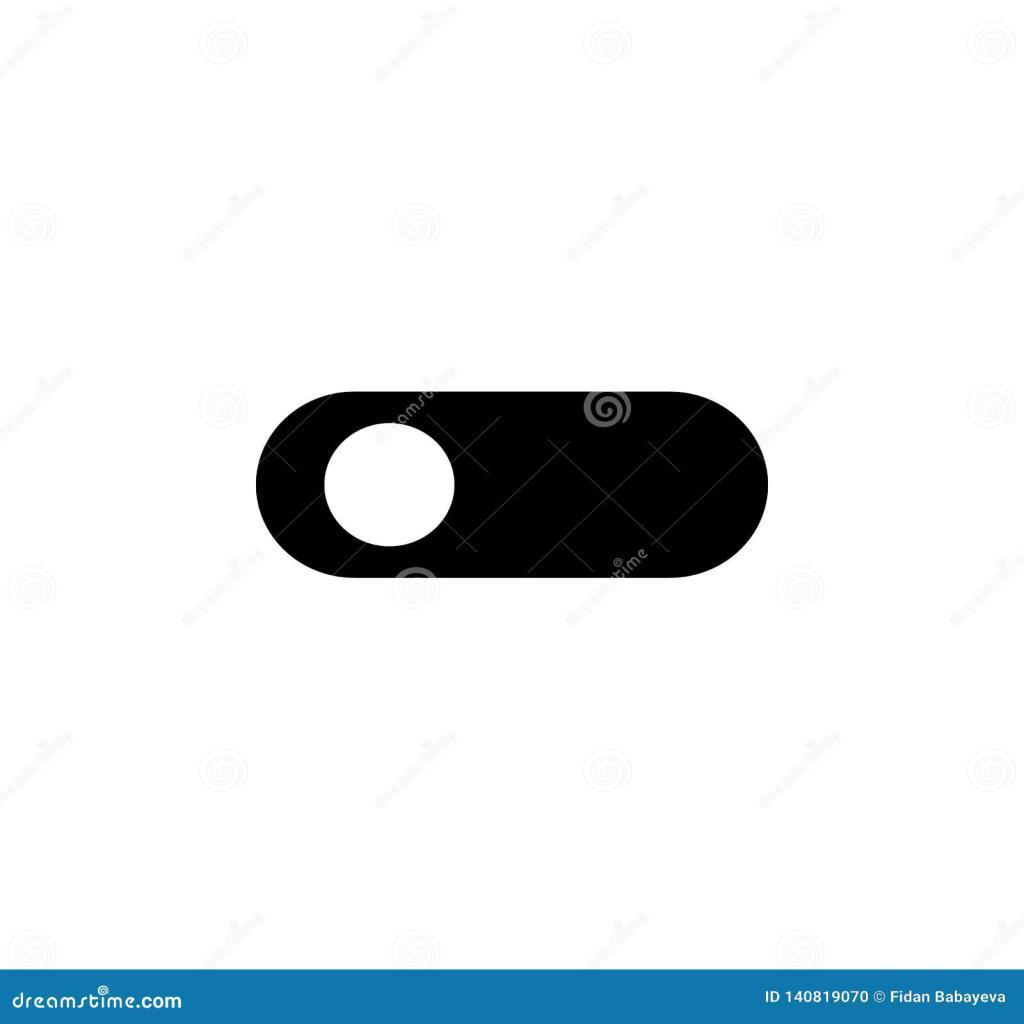switch: (257, 392, 771, 580)
